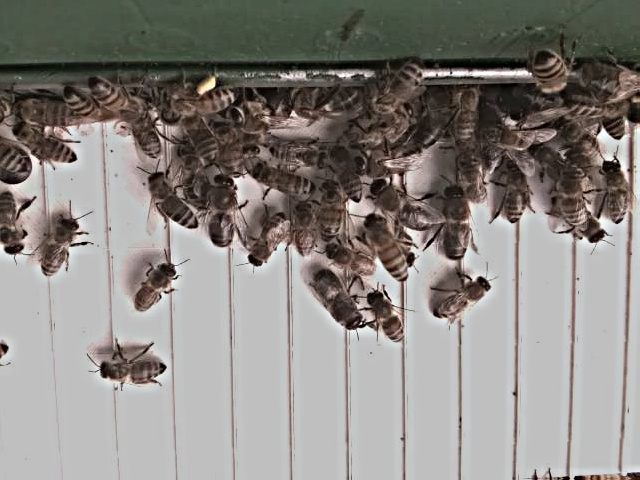Drone: (371, 178, 439, 235), (312, 268, 365, 337), (438, 183, 474, 265), (205, 171, 240, 250)
Worker: (147, 175, 202, 233), (367, 216, 410, 286), (432, 278, 494, 322), (14, 127, 79, 168), (135, 261, 182, 316), (42, 217, 82, 280), (369, 290, 409, 349), (249, 213, 290, 268), (267, 138, 333, 171), (254, 164, 317, 198), (97, 358, 170, 387), (131, 108, 167, 165), (601, 160, 631, 227), (558, 167, 590, 229), (330, 148, 364, 206), (326, 244, 379, 280), (0, 194, 27, 260), (504, 160, 530, 228), (321, 180, 346, 244), (292, 198, 317, 259)
